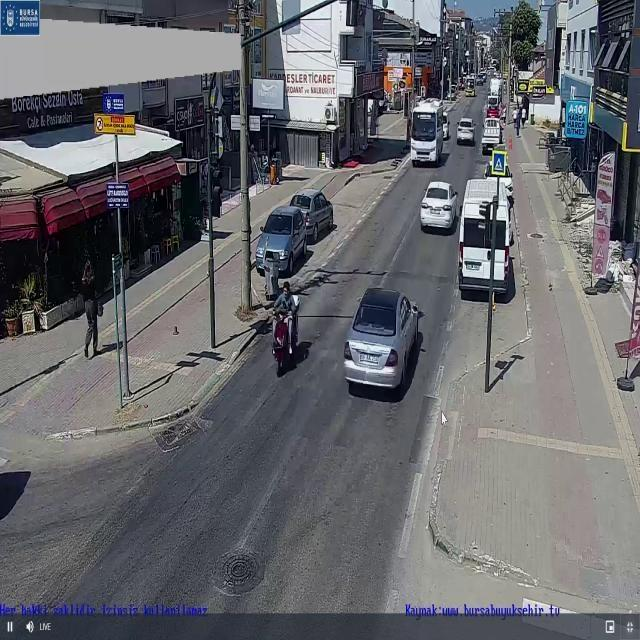Car: (341, 284, 425, 395), (249, 207, 306, 275), (290, 190, 334, 242), (419, 178, 460, 233), (456, 118, 476, 142), (440, 112, 451, 140), (485, 105, 502, 118)
Cycle: (270, 294, 301, 373), (409, 106, 444, 168)
Truck: (482, 116, 504, 153)
Van: (458, 177, 509, 296)
